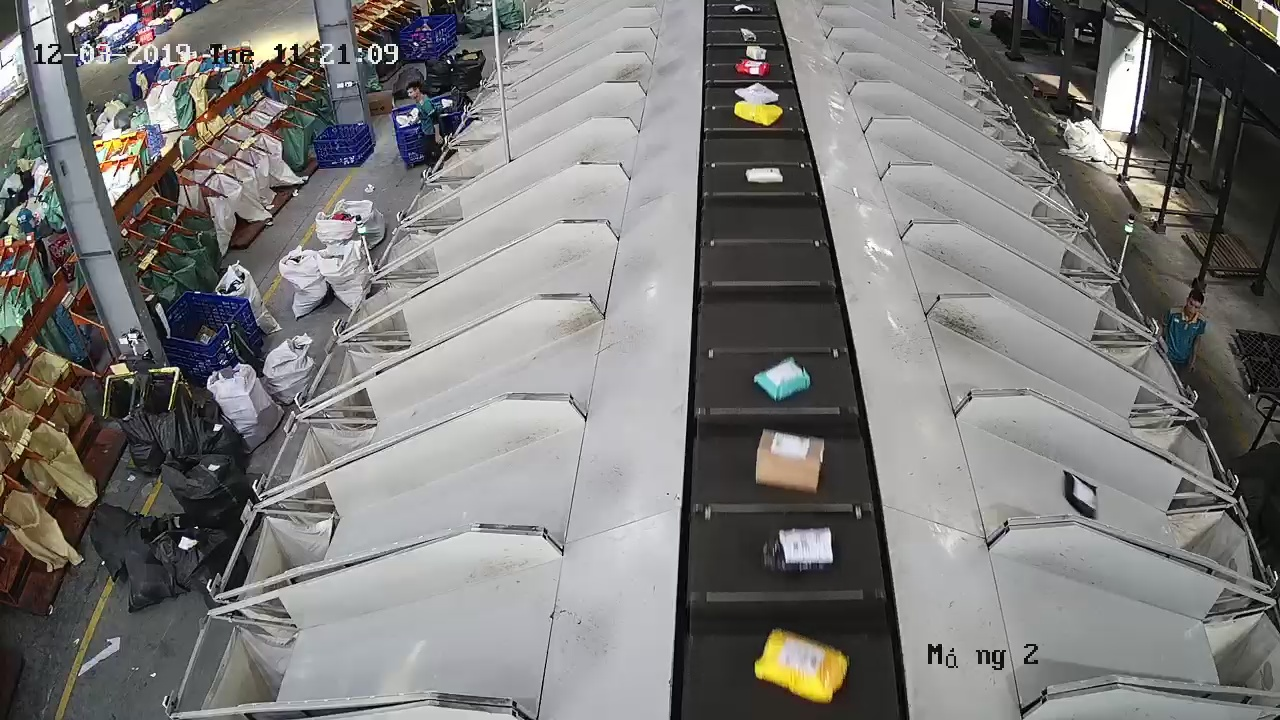parcel: (751, 626, 850, 706), (754, 427, 826, 496), (761, 525, 835, 575), (752, 355, 812, 402), (1061, 469, 1099, 521), (743, 166, 785, 183)
